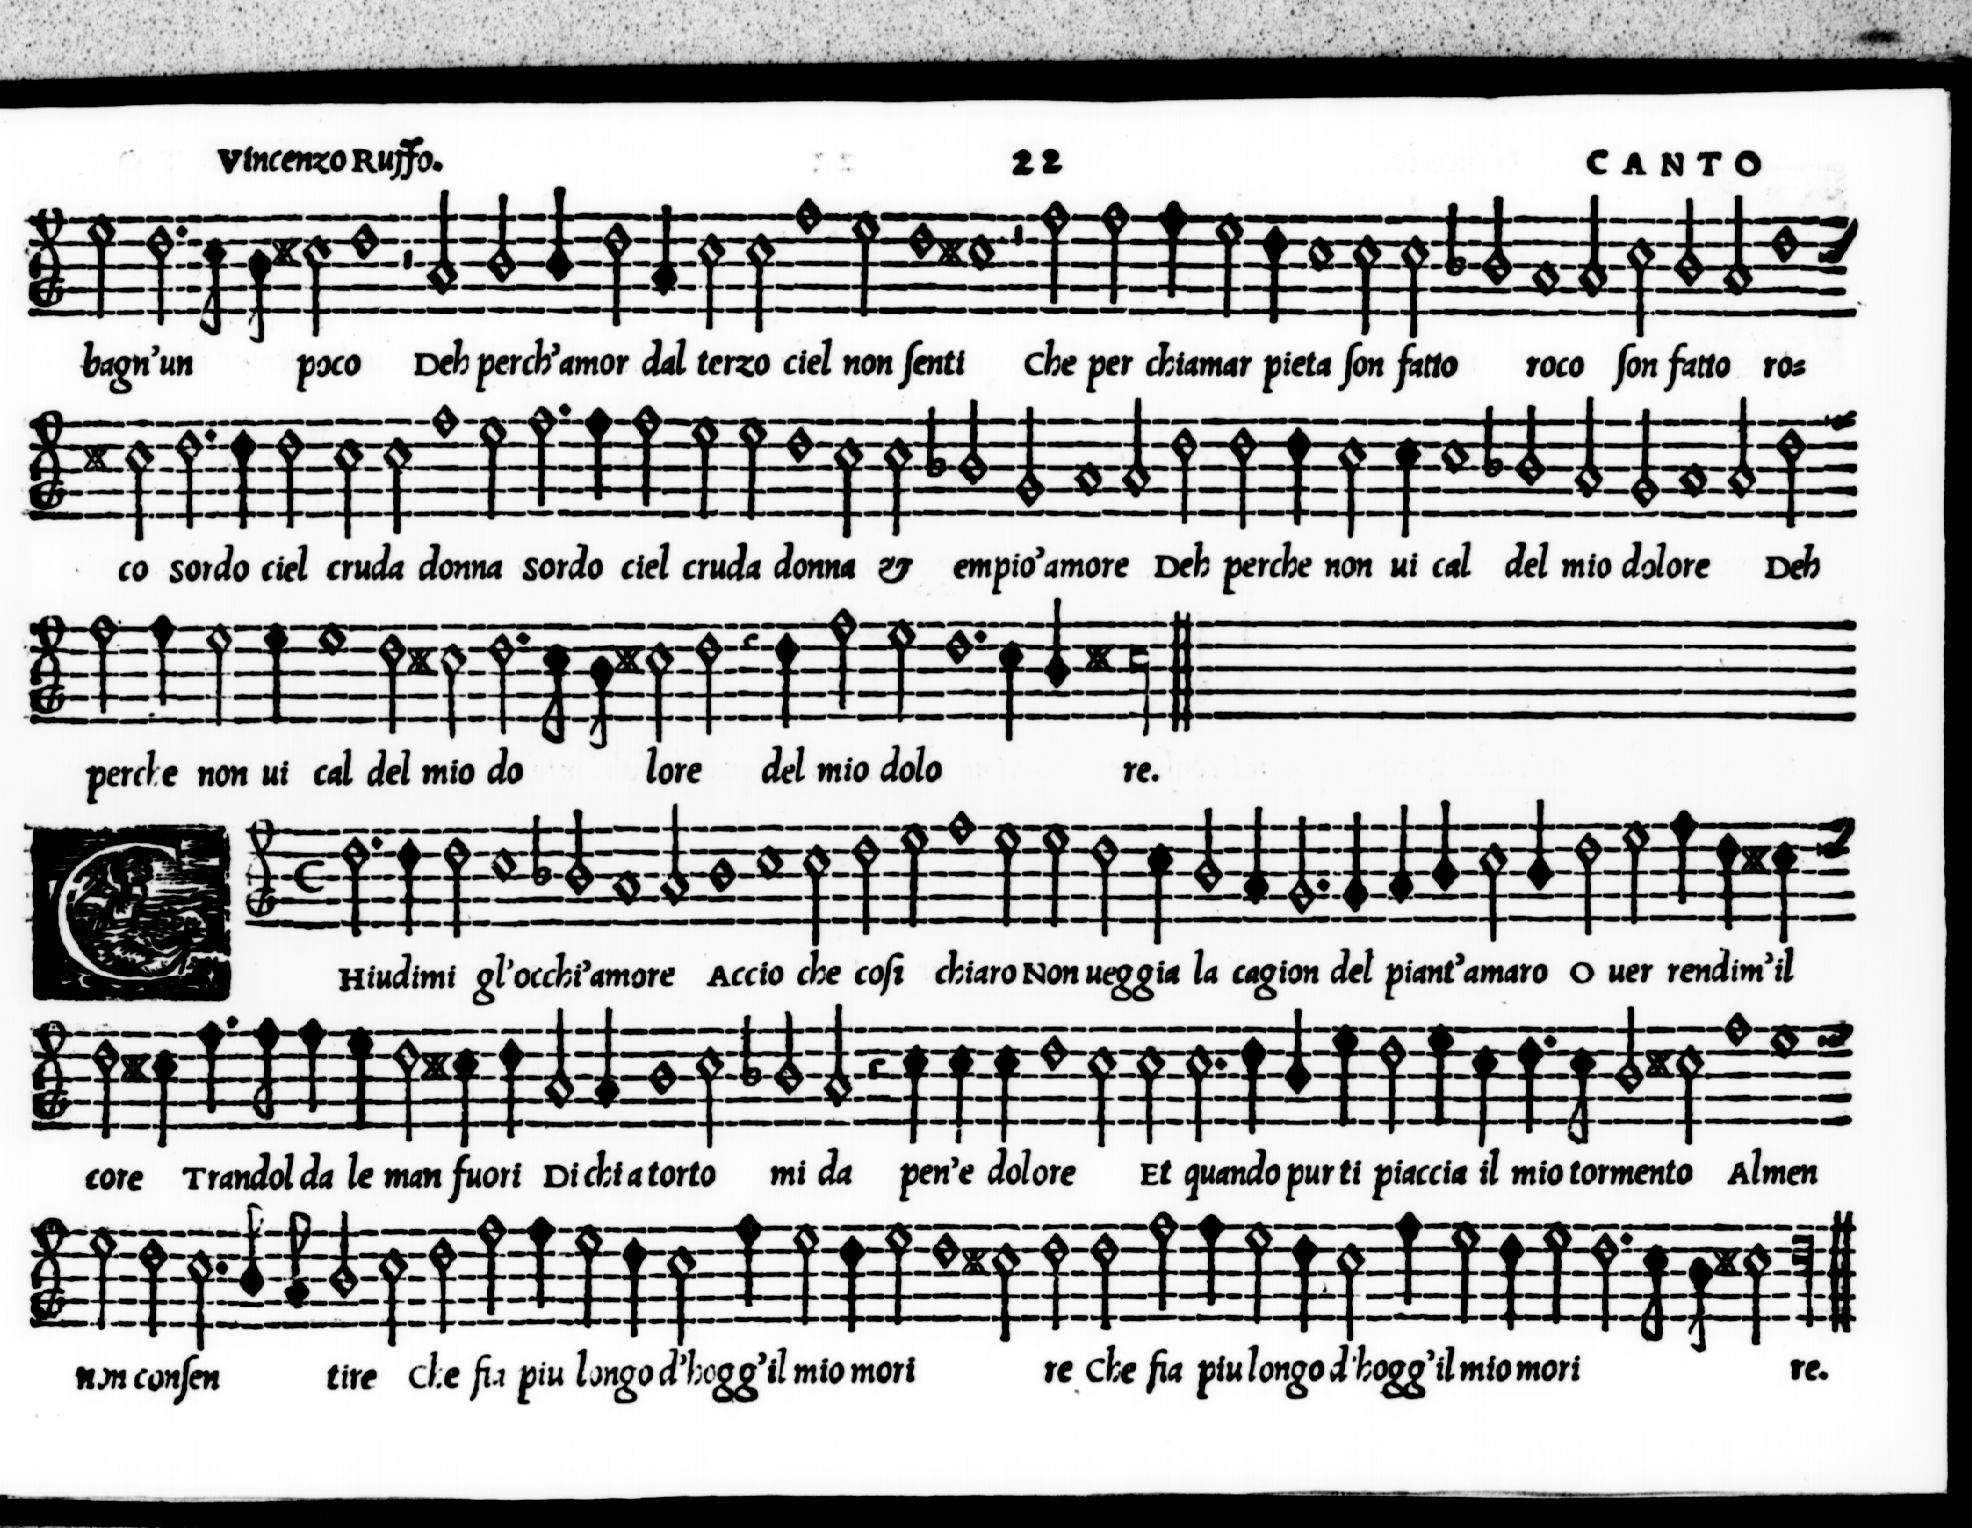Imin: (282, 835, 330, 906)
custos_5: (1793, 798, 1873, 866)
flat_7: (523, 794, 560, 899)
g clef_9: (235, 802, 285, 934)
minim_4: (890, 808, 932, 931), (1613, 806, 1652, 931), (989, 813, 1028, 931), (1032, 811, 1068, 930)
minim_5: (338, 821, 378, 954), (1084, 821, 1124, 954), (1565, 814, 1604, 944), (844, 819, 887, 933), (437, 821, 474, 938)
minim_6: (1473, 822, 1513, 950), (794, 827, 837, 934)
minim_7: (1188, 802, 1228, 914), (559, 802, 597, 915)
minim_8: (651, 803, 695, 923)
minim_9: (1281, 810, 1316, 926)
point: (1300, 856, 1340, 906), (363, 819, 391, 861)
semibreve_3: (936, 802, 984, 861)
semibreve_6: (744, 822, 791, 898), (482, 835, 523, 898)
semibreve_7: (687, 854, 744, 914)
semibreve_8: (600, 851, 653, 923)
semiminim_3: (1663, 792, 1701, 918)
semiminim_5: (1705, 814, 1745, 941), (394, 822, 427, 939)
semiminim_6: (1135, 819, 1178, 957), (1766, 819, 1802, 954)
semiminim_7: (1425, 782, 1465, 907), (1521, 782, 1557, 906)
semiminim_8: (1236, 787, 1276, 917), (1388, 789, 1420, 918)
semiminim_9: (1337, 798, 1373, 925)
sharp: (1725, 826, 1778, 890)
